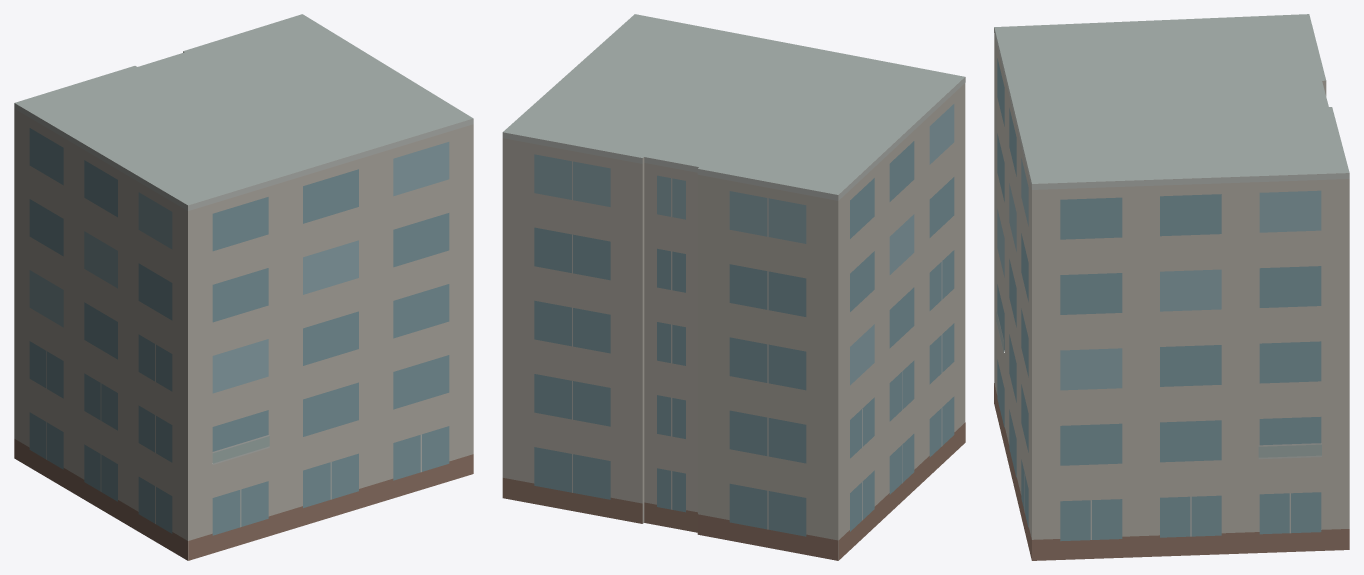
The model's file is survey-upis-32781172.glb.
The picture shows the model from 3 angles, left to right: view 1: azimuth 30°, elevation 25°; view 2: azimuth 150°, elevation 25°; view 3: azimuth 270°, elevation 25°; orthographic projection. The views are drawn at different scales.
Visible parts, largest first — view 1: survey-upis-32781172.tmp; view 2: survey-upis-32781172.tmp; view 3: survey-upis-32781172.tmp.
Boxes of the visible parts, x1,y1,x2,y2 form: survey-upis-32781172.tmp: (14,14,473,560); survey-upis-32781172.tmp: (502,14,965,560); survey-upis-32781172.tmp: (994,14,1349,560).
Size of the model in its own units: 14.76 by 15.25 by 13.04.
